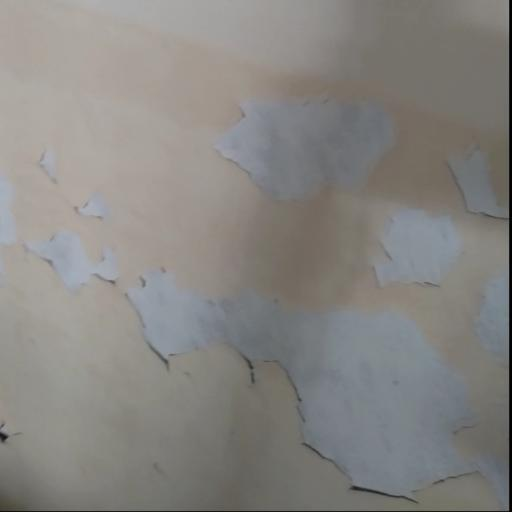peeling: (123, 252, 512, 512), (207, 82, 424, 223), (2, 149, 131, 341), (375, 199, 460, 294), (443, 133, 512, 226)
